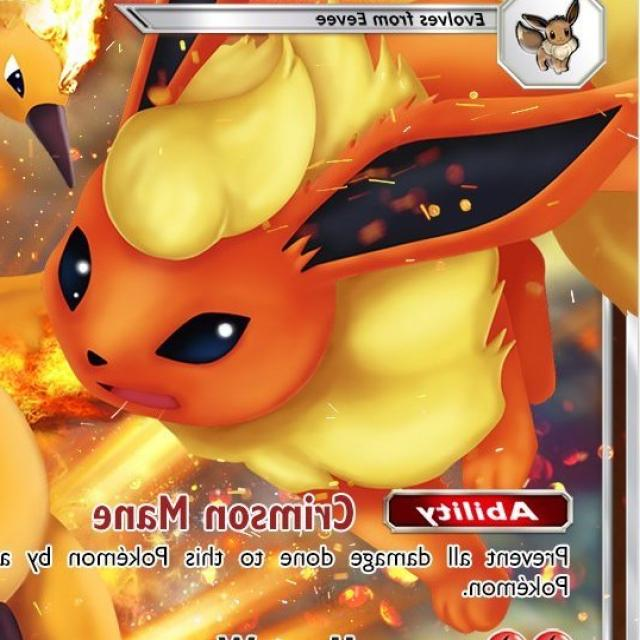Flareon: (50, 41, 622, 497)
